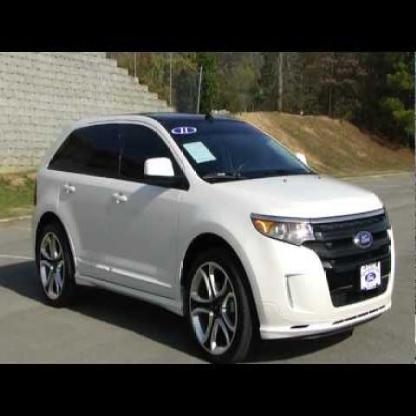Vehicle: (33, 112, 399, 365)
